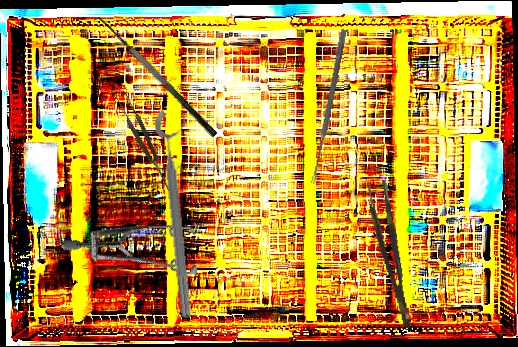Fixation Ring: (153, 106, 209, 320)
Spatula Surgical: (88, 9, 219, 148)
Speculum: (59, 167, 221, 320)
Surgical Spoon: (310, 28, 347, 185)
Tissue Forceps: (365, 179, 413, 331), (114, 90, 178, 200)
